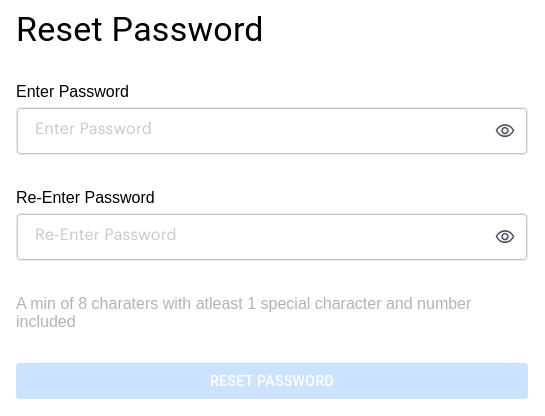
Test: Reset Password › should render password error message for atleast 1 special character correctlyy
Type "Abcde1aa" into the field with id "textfield-input" at [250, 131], box [21,104,479,158]
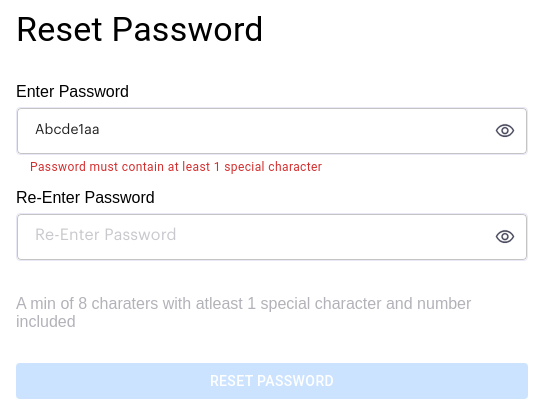
Result: the text "Password must contain at least 1 special character" is shown at [30,160,322,174]
